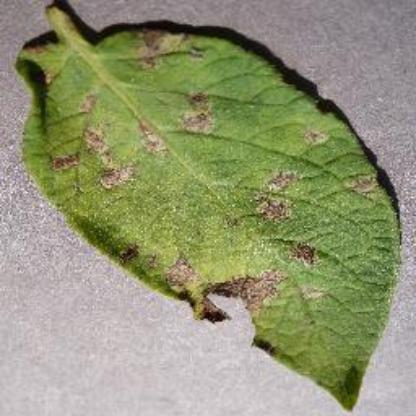Early-Blight: (14, 0, 415, 414)
